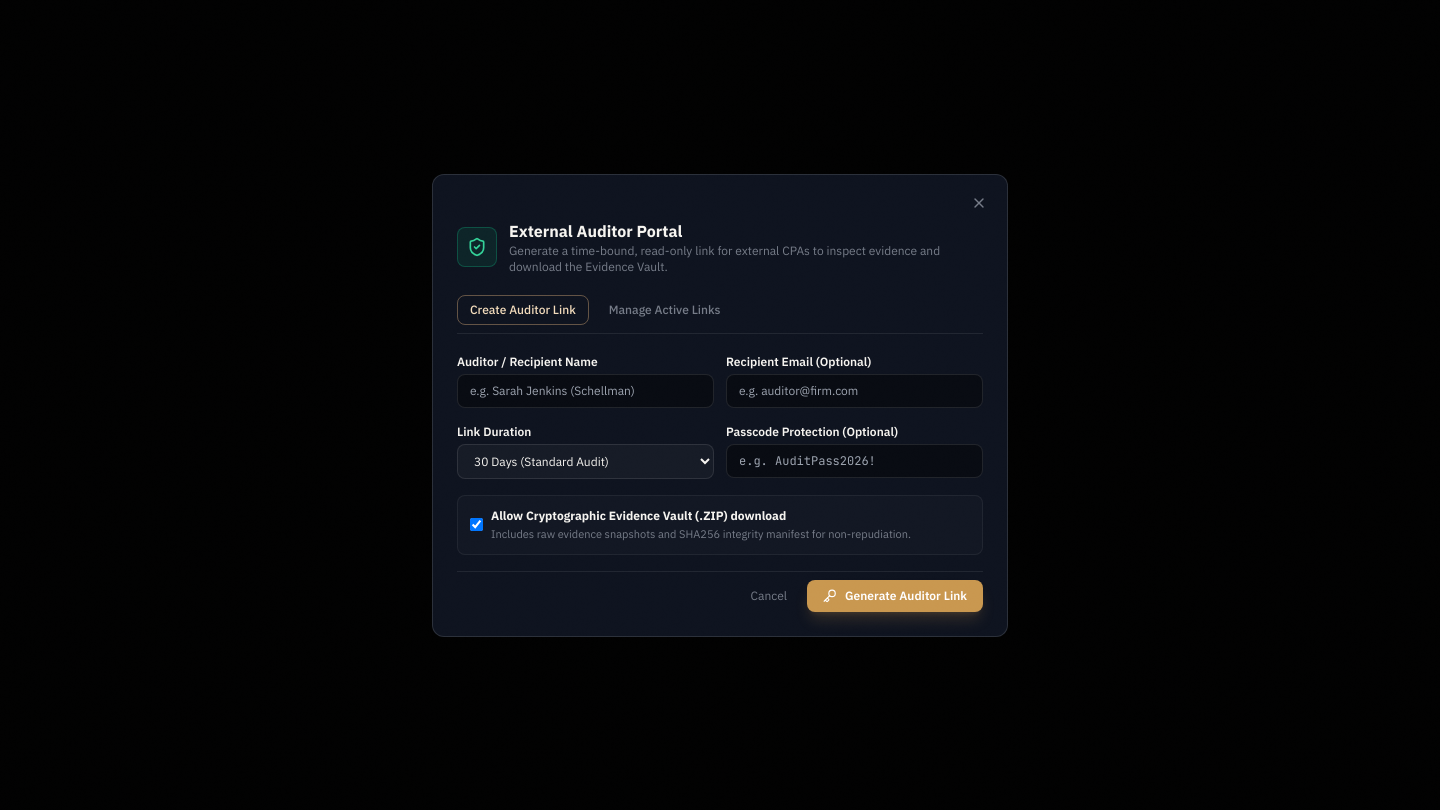
Test: AuditorShareModal › renders form and creates an auditor invite link
This screenshot has width=1440, height=810.
Expected: the heading "External Auditor Portal" is shown, [509,220,682,240]
Note: Fill form
Type "Sarah Jenkins" into the field with placeholder "e.g. Sarah Jenkins (Schellman)". click: (586, 390)
box: [457,374,714,408]
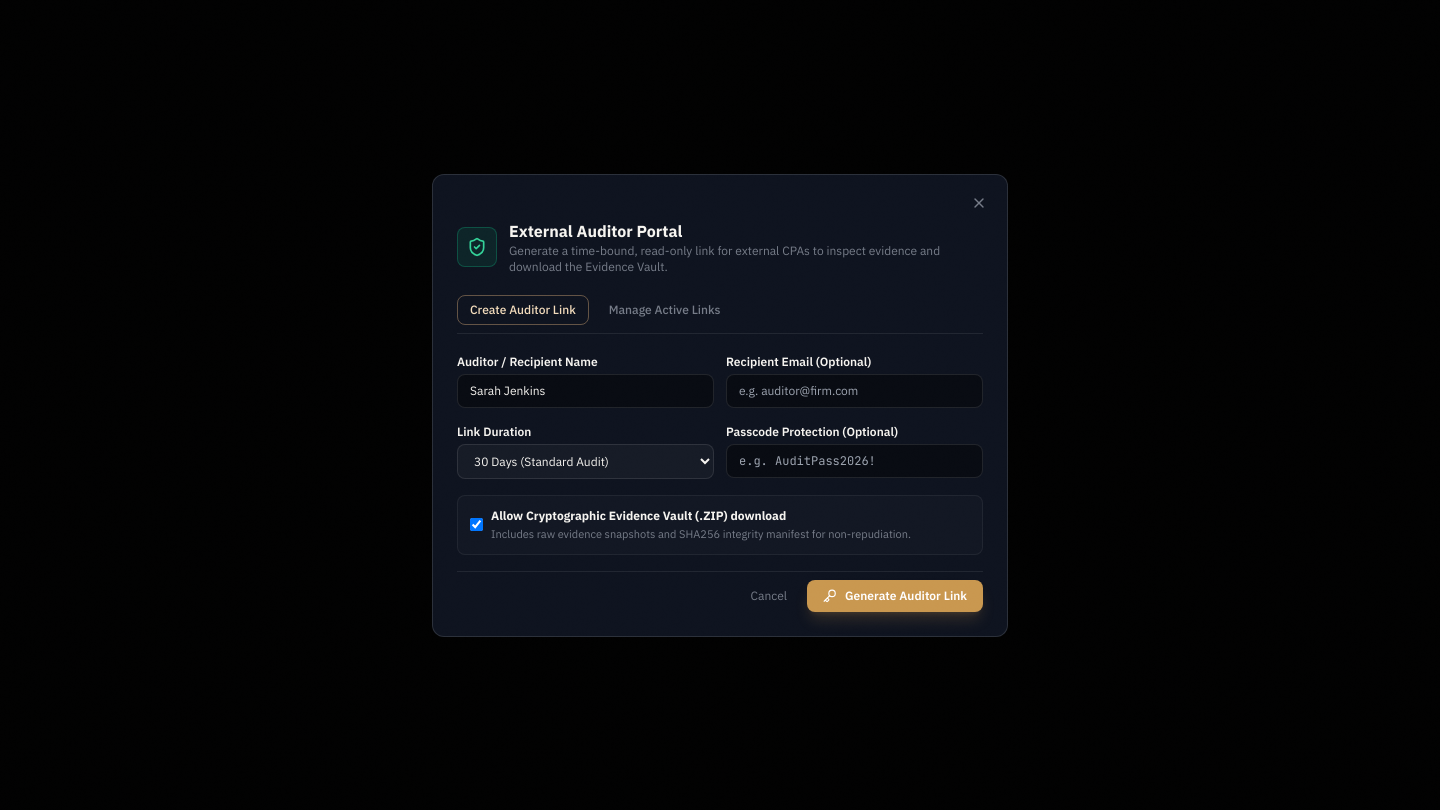
Type "sarah@firm.com" into the field with placeholder "e.g. auditor@firm.com". click: (854, 390)
box: [726,374,983,408]
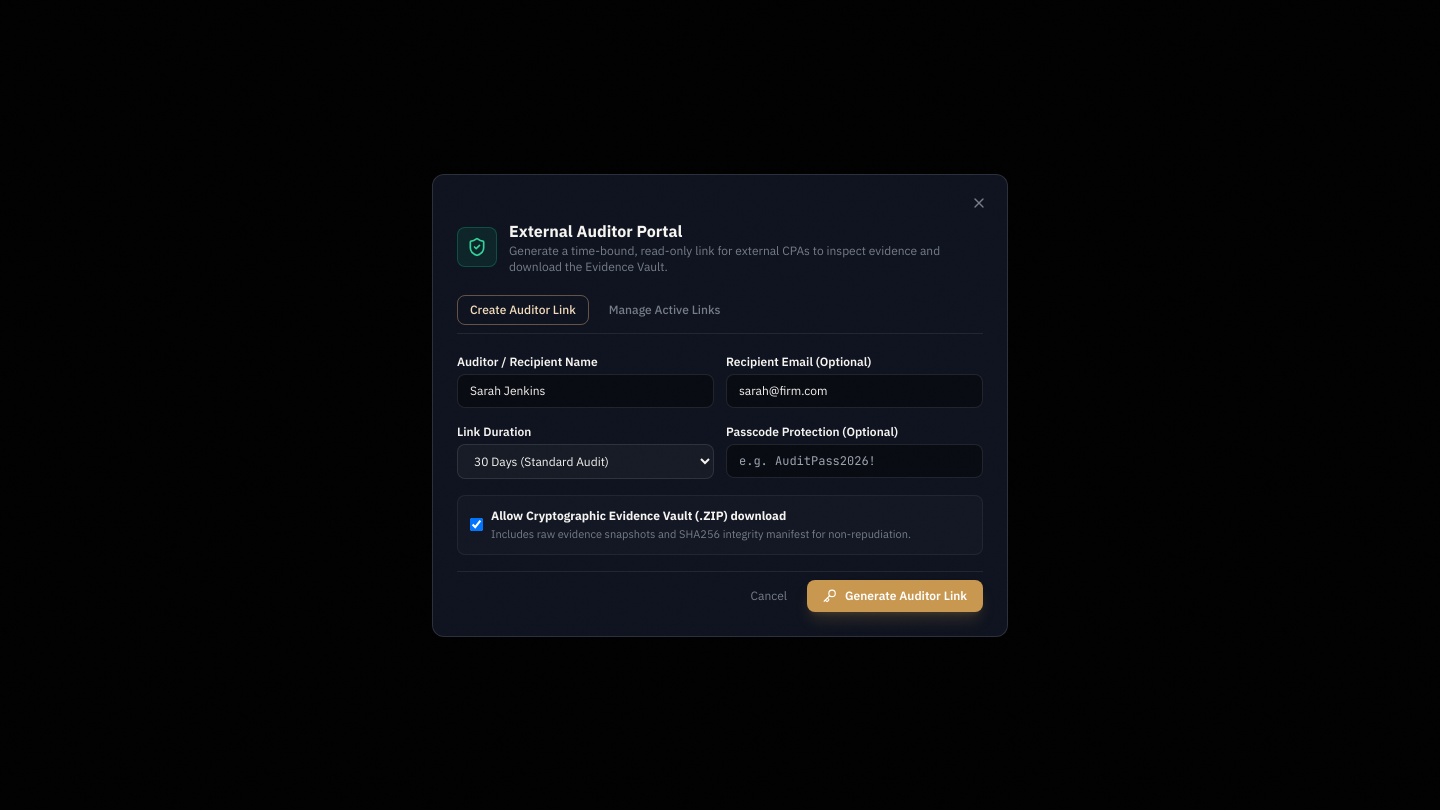
Click the button "Generate Auditor Link". click: click(895, 596)
box: [807,580,983,612]
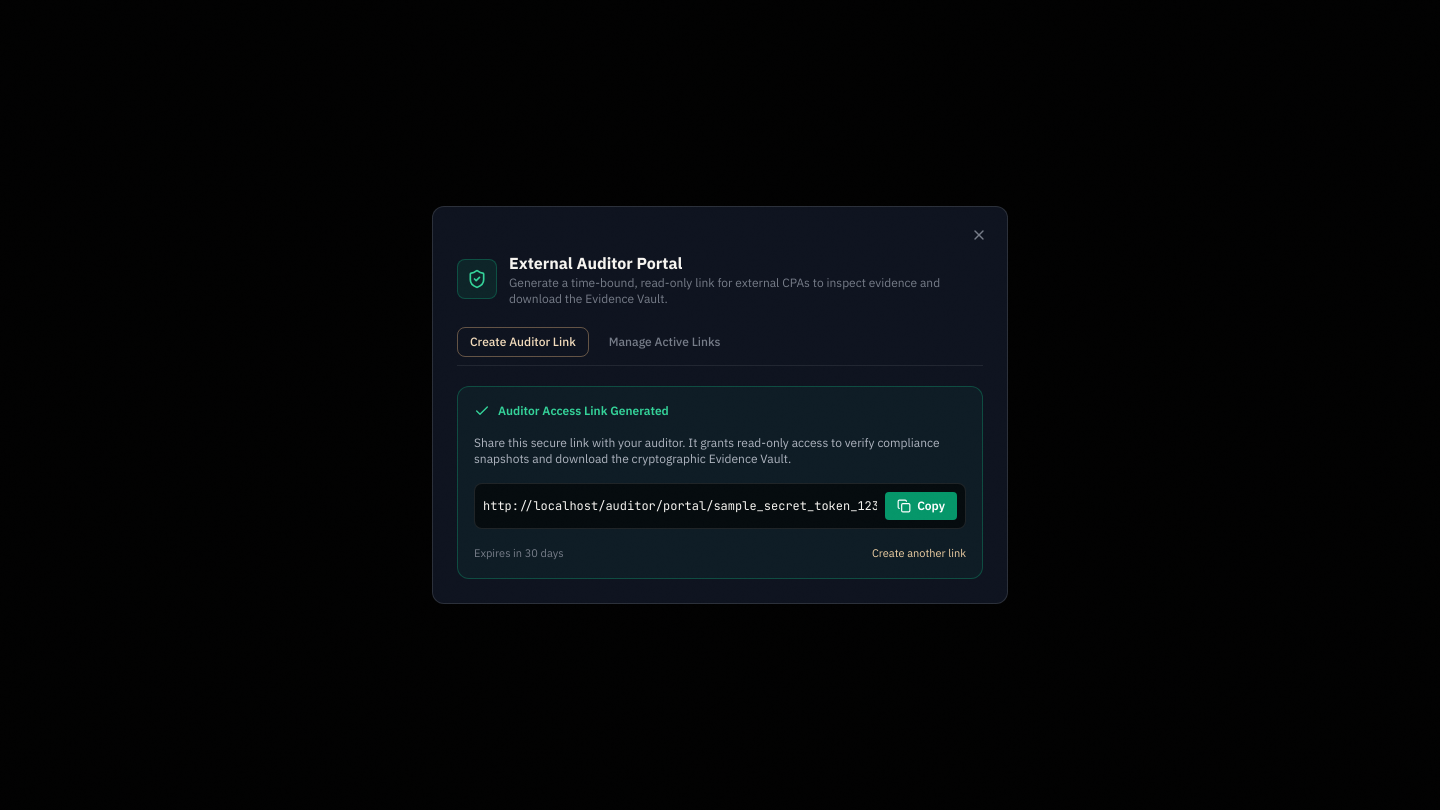
Result: the text "Auditor Access Link Generated" is shown at [474,403,669,419]
Result: the button "Copy" is shown at [885,492,957,520]
